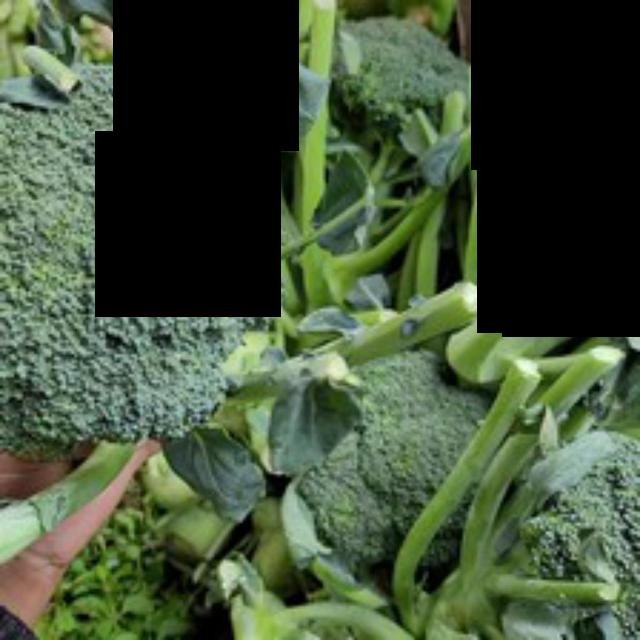broccoli: (0, 61, 269, 470)
